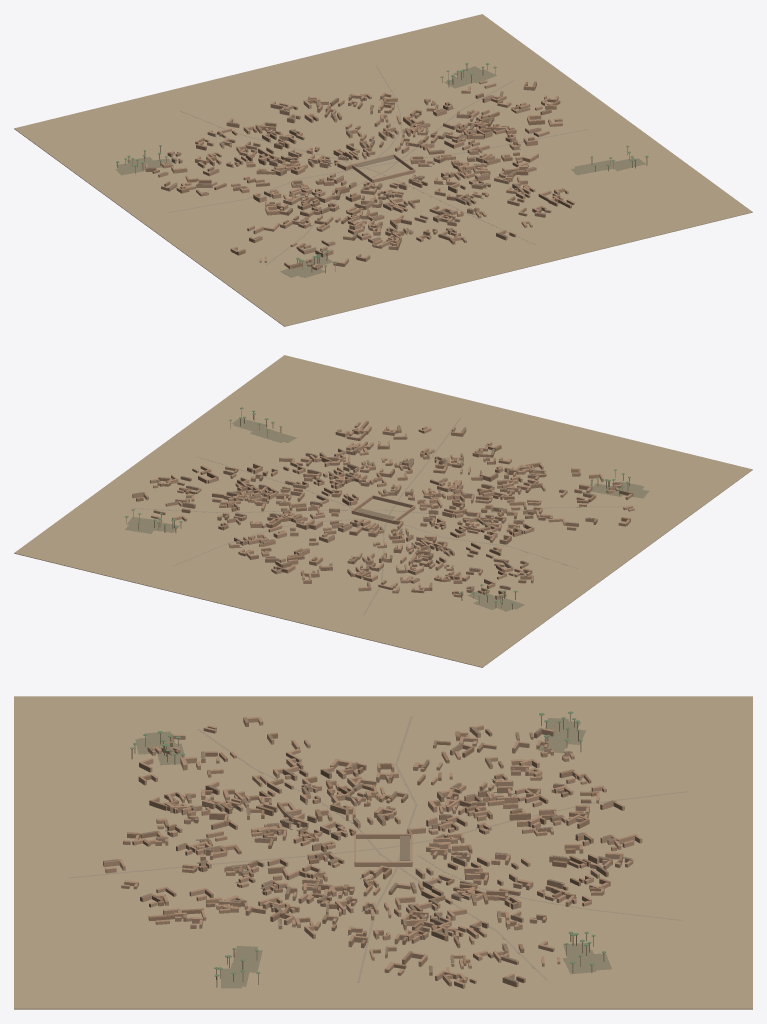
File: core.glb
The picture shows the model from 3 angles, top to bottom: view 1: azimuth 30°, elevation 25°; view 2: azimuth 150°, elevation 25°; view 3: azimuth 270°, elevation 25°; orthographic projection. The views are drawn at different scales.
Parts seen in each view (by area): view 1: core_ground; view 2: core_ground; view 3: core_ground.
Part boxes in pixels (left/top/right/bottom): core_ground: left=14, top=14, right=752, bottom=326; core_ground: left=14, top=355, right=752, bottom=667; core_ground: left=14, top=696, right=752, bottom=1009.
Size of the model in its own units: 470 by 9.24 by 470.
